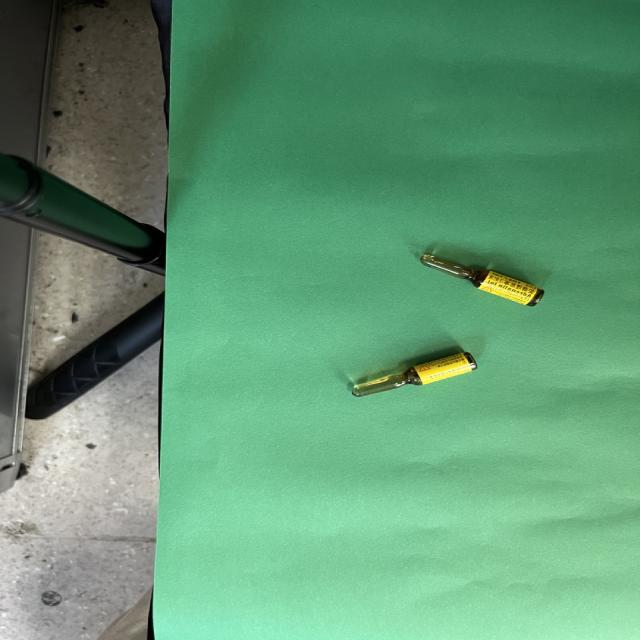Ampoules: (420, 254, 545, 306), (351, 352, 477, 397)
